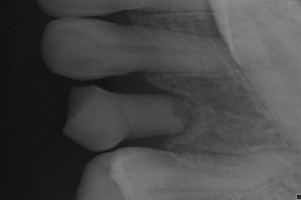Furcation Involvement: (174, 93, 199, 132)
